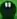black: (0, 0, 17, 19)
